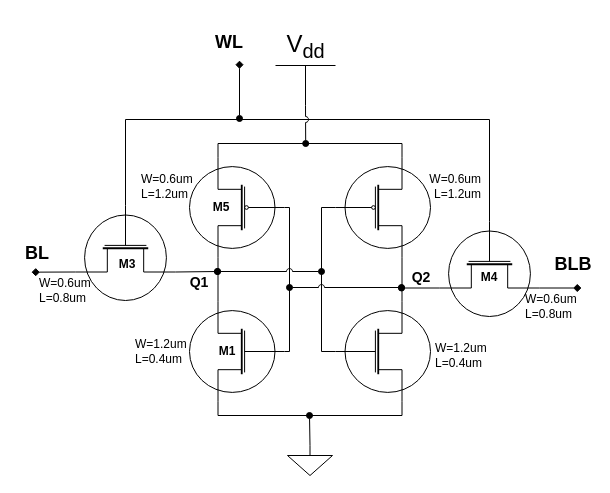
Some shapes in this 610 by 493 pixel diagram are drawn without their labels. The centre of each missing label's shape, as x and y in pixels:
"M2" belongs at (382,351).
"M6" belongs at (382,207).
